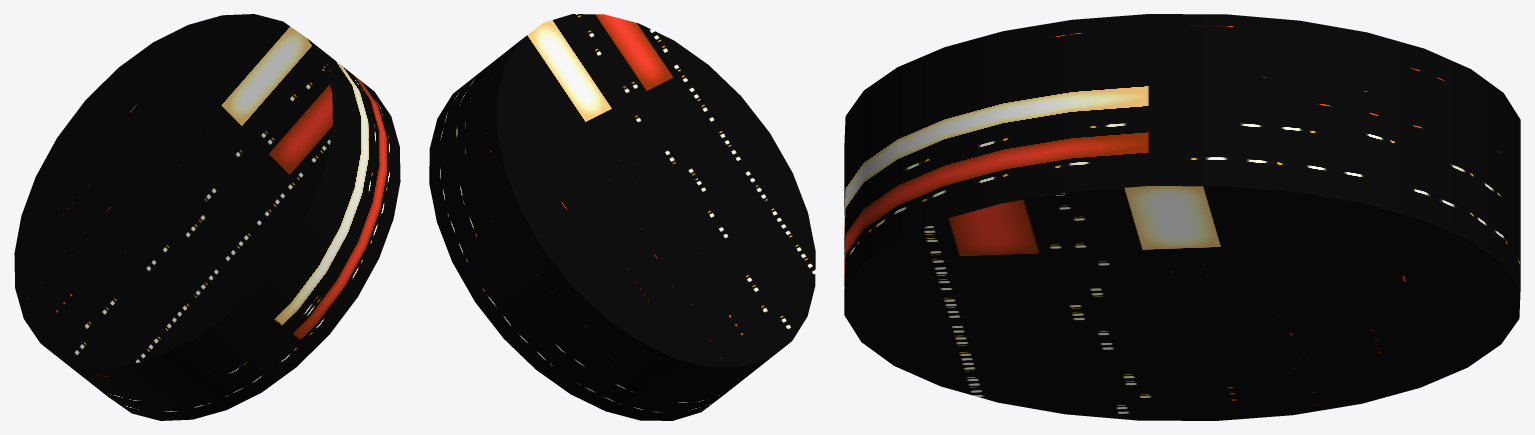
The picture shows the model from 3 angles, left to right: view 1: azimuth 30°, elevation 25°; view 2: azimuth 150°, elevation 25°; view 3: azimuth 270°, elevation 25°; orthographic projection. The views are drawn at different scales.
Parts seen in each view (by area): view 1: Circle001.3; view 2: Circle001.3; view 3: Circle001.3.
Boxes of the visible parts, x1=… form: Circle001.3: x1=14, y1=14, x2=400, y2=420; Circle001.3: x1=429, y1=14, x2=815, y2=420; Circle001.3: x1=844, y1=14, x2=1520, y2=420.
Bounding box in the file's own units: 66.03 × 66.48 × 73.7.
1 material, 1 textured.
